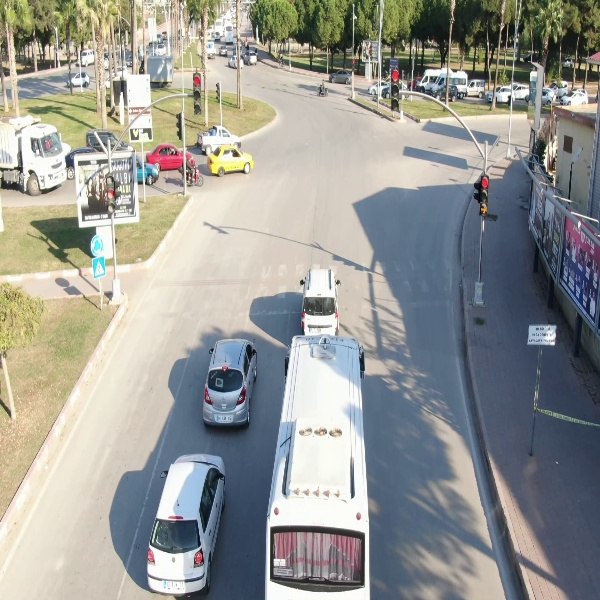car: (139, 452, 230, 596), (199, 335, 260, 429), (205, 144, 255, 177), (486, 84, 516, 104), (432, 84, 464, 102), (326, 67, 357, 85), (67, 70, 91, 89), (560, 91, 588, 107)
